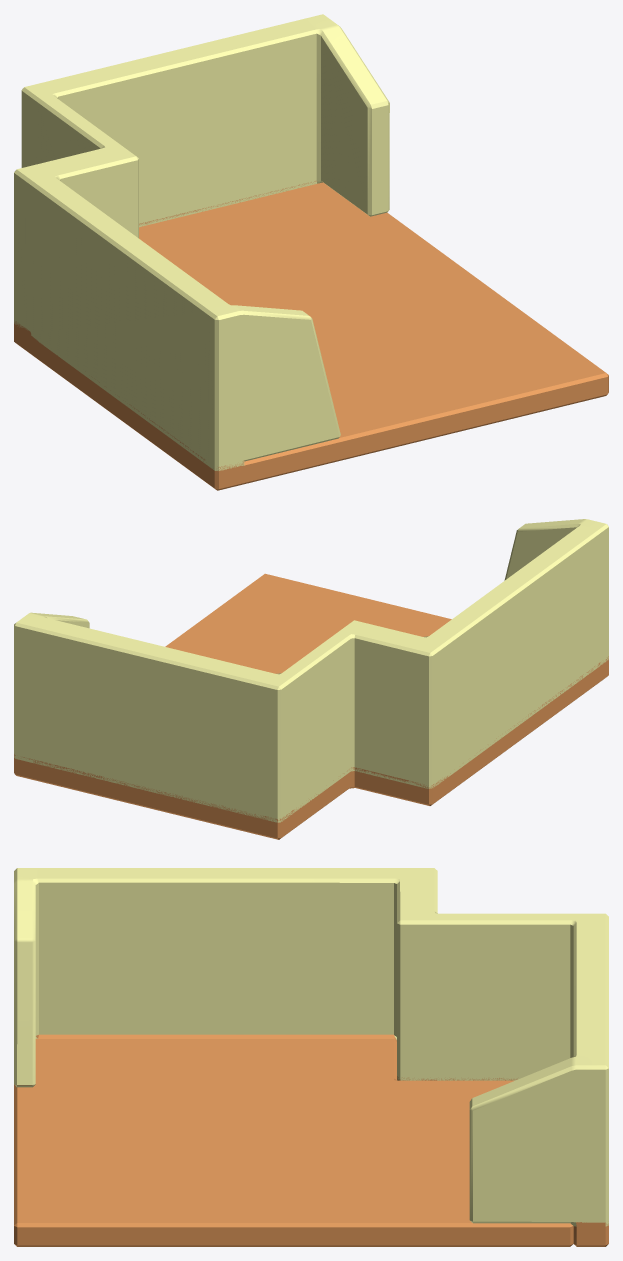
File: room_fbx_colored.fbx
3 renders of one model, top to bottom at view 1: azimuth 30°, elevation 25°; view 2: azimuth 150°, elevation 25°; view 3: azimuth 270°, elevation 25°, orthographic. The views are drawn at different scales.
Visible parts, largest first — view 1: pCube1, pCube2; view 2: pCube1, pCube2; view 3: pCube1, pCube2.
Boxes of the visible parts, x1=… form: pCube1: x1=14, y1=14, x2=389, y2=470; pCube2: x1=14, y1=181, x2=608, y2=490; pCube1: x1=14, y1=519, x2=608, y2=822; pCube2: x1=14, y1=573, x2=608, y2=839; pCube1: x1=14, y1=868, x2=608, y2=1226; pCube2: x1=14, y1=1034, x2=608, y2=1246.
Size of the model in its own units: 1.49 by 0.6323 by 1.88.
